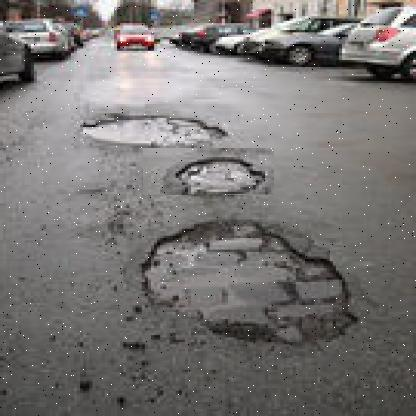pothole: (114, 208, 398, 347), (68, 102, 240, 150), (142, 148, 274, 196)
